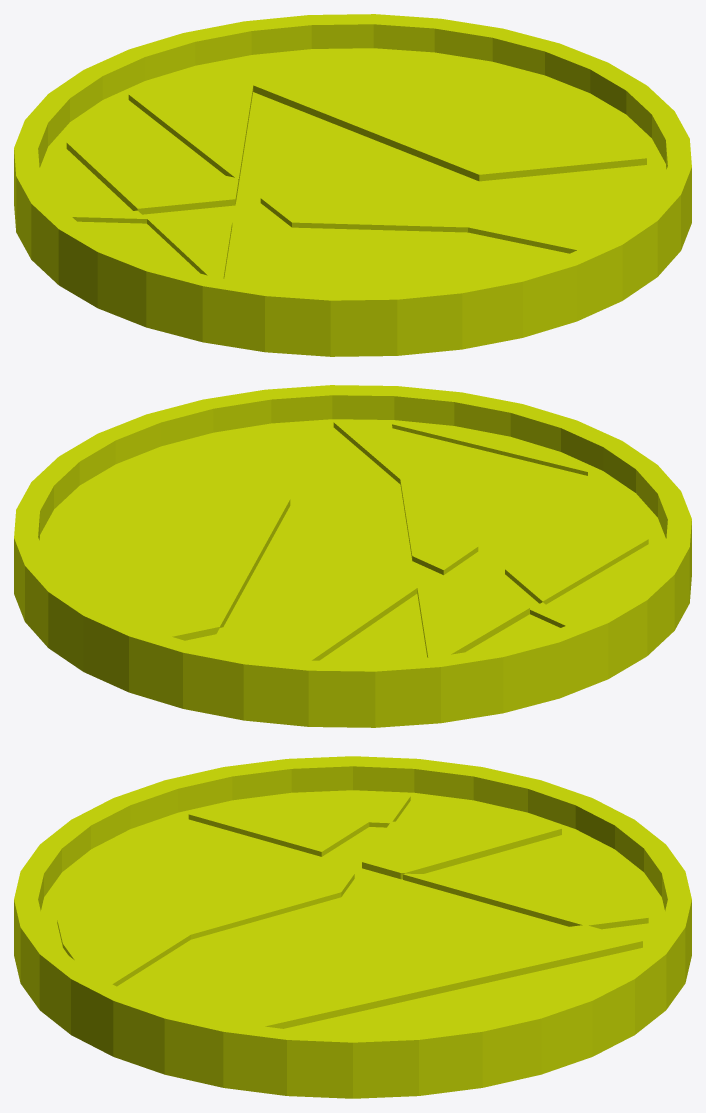
The model's file is Coin_Single.fbx.
The picture shows the model from 3 angles, top to bottom: view 1: azimuth 30°, elevation 25°; view 2: azimuth 150°, elevation 25°; view 3: azimuth 270°, elevation 25°; orthographic projection.
Parts seen in each view (by area): view 1: Circle; view 2: Circle; view 3: Circle.
Boxes of the visible parts, box(x1,y1,x2,y2) form: Circle: box(14, 14, 691, 356); Circle: box(14, 385, 691, 727); Circle: box(14, 756, 691, 1098).
Size of the model in its own units: 200 by 18.27 by 200.
